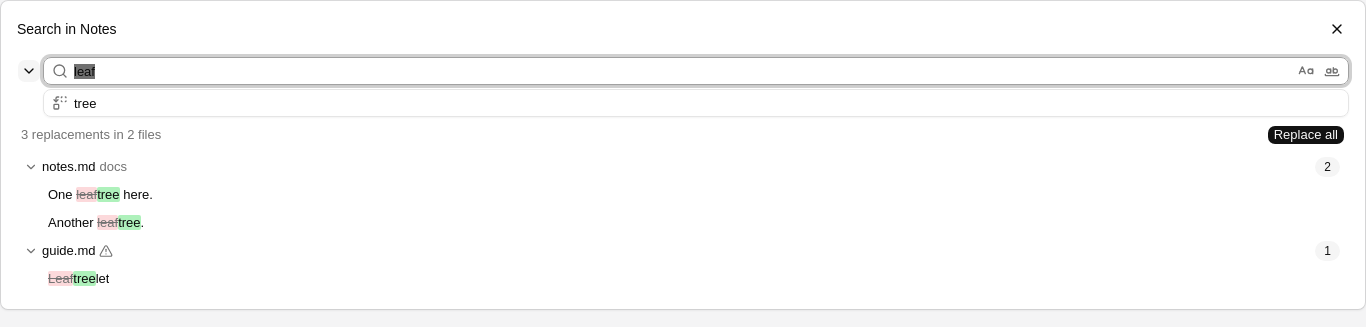
Test: folder search panel, replacing › previews each change and marks a file written as Save writes it
Expected: the text "leaf" next to "One" is shown, [76,187,97,202]
Expected: the text "tree" next to "here." is shown, [97,187,120,202]
Hover over the picture named "Written as Save writes it, which also changes other lines".
mouse_move(106, 251)  # box [100,244,114,258]
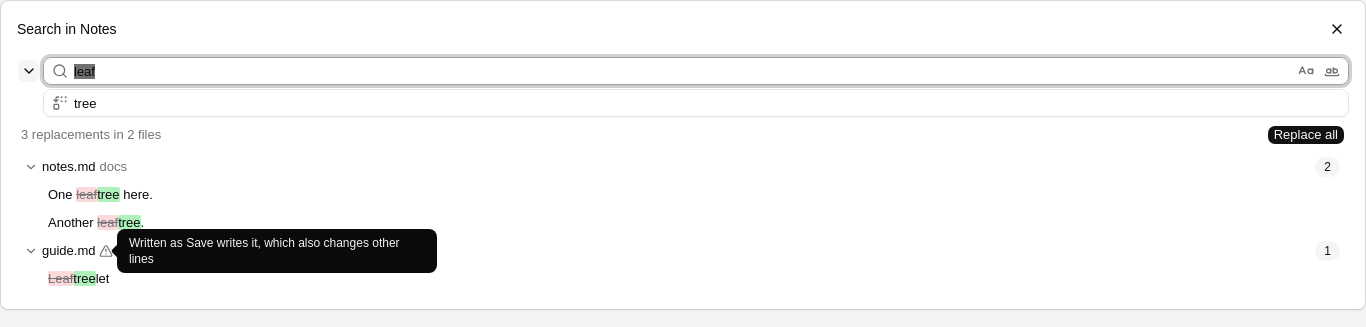
Expected: the text with test id "folder-search-status" reads "3 replacements in 2 files", [21,127,161,142]
Now the element showing "Written as Save writes it, which also changes other lines" is shown, box [117,229,437,273]
